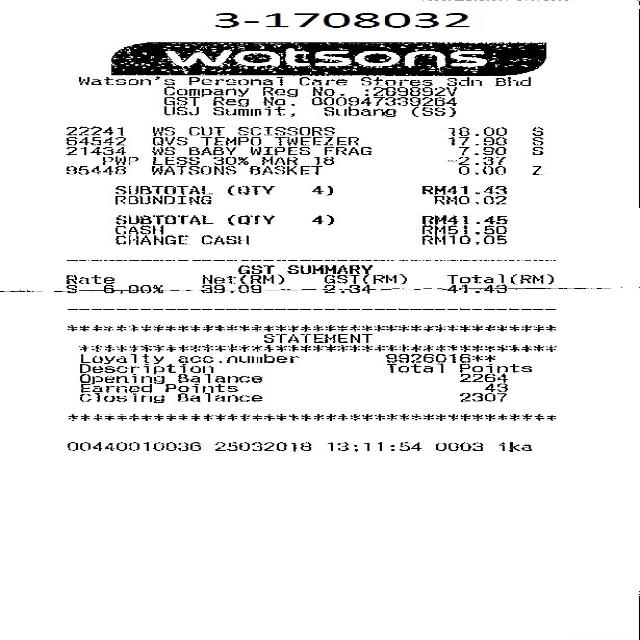text: (162, 48, 486, 67), (214, 12, 466, 27), (114, 185, 212, 204), (310, 96, 454, 105), (77, 364, 211, 373), (64, 442, 198, 451), (177, 353, 299, 362), (114, 214, 214, 224), (383, 353, 494, 362), (446, 274, 554, 283), (79, 353, 162, 364), (78, 373, 161, 384), (419, 214, 507, 224), (261, 334, 371, 342), (235, 126, 332, 135), (161, 86, 247, 96), (419, 224, 504, 234), (419, 234, 504, 244), (214, 442, 308, 451), (175, 392, 259, 402), (78, 392, 161, 402), (363, 86, 455, 95), (326, 442, 418, 451), (322, 274, 404, 284), (201, 274, 282, 284), (212, 106, 292, 116), (419, 185, 504, 194), (77, 76, 172, 84), (175, 373, 259, 382), (187, 76, 281, 84), (273, 136, 356, 145), (151, 165, 233, 174), (322, 106, 394, 116), (458, 362, 530, 372), (112, 235, 188, 244), (286, 265, 370, 273), (248, 165, 322, 174), (358, 76, 431, 85), (431, 195, 504, 204), (162, 383, 235, 392), (112, 195, 184, 204), (79, 383, 151, 392), (384, 362, 443, 372), (248, 146, 309, 155), (100, 284, 161, 293), (199, 136, 259, 145), (63, 165, 123, 174), (200, 284, 260, 293), (64, 126, 120, 135), (320, 283, 370, 293), (444, 284, 506, 292), (63, 136, 124, 144), (63, 146, 123, 154), (443, 156, 503, 164), (200, 234, 248, 244), (445, 127, 504, 135), (445, 136, 504, 144), (225, 184, 272, 194), (225, 214, 272, 224), (458, 392, 505, 402), (112, 224, 164, 233), (296, 76, 346, 85), (322, 146, 371, 155), (151, 155, 200, 164), (410, 106, 454, 116), (186, 146, 234, 155), (458, 373, 506, 382), (211, 95, 249, 106), (434, 442, 480, 451), (457, 146, 505, 154), (457, 166, 505, 174), (64, 275, 112, 283), (259, 86, 297, 96), (259, 155, 297, 164), (493, 76, 529, 85), (187, 126, 223, 135), (444, 76, 479, 85), (310, 86, 345, 95), (496, 442, 530, 451), (211, 156, 249, 164), (162, 96, 199, 104), (100, 156, 137, 164), (236, 265, 273, 273), (260, 96, 292, 105), (163, 106, 197, 114), (153, 136, 185, 144), (483, 383, 508, 392), (311, 214, 331, 224), (151, 126, 173, 135), (150, 146, 174, 154), (310, 185, 330, 194), (313, 156, 333, 164), (63, 284, 76, 293), (529, 146, 540, 154), (530, 127, 540, 135), (530, 136, 540, 144), (530, 166, 540, 173)
